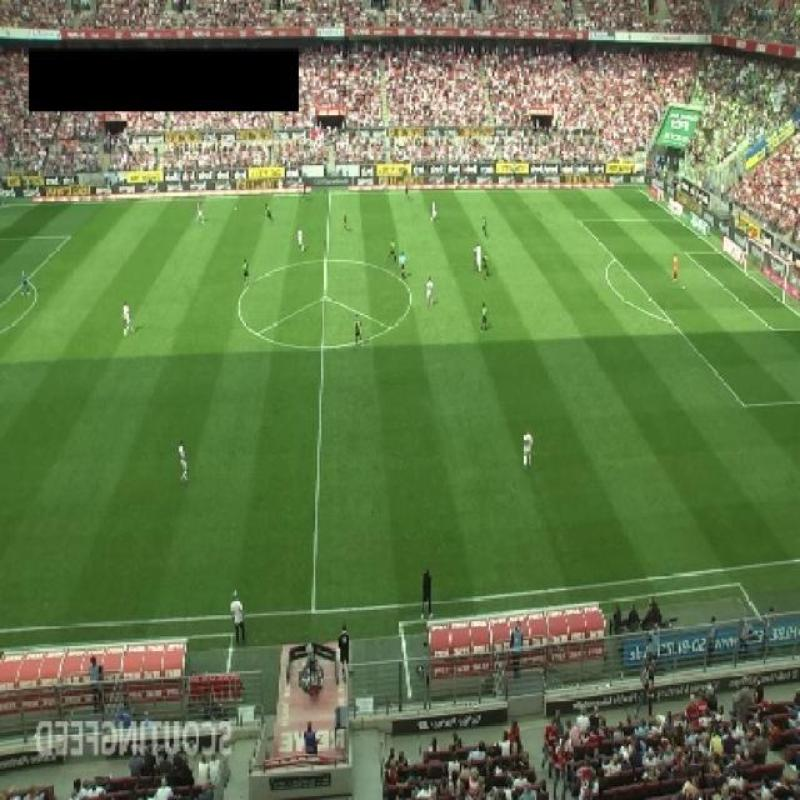1: (627, 176, 648, 194), (0, 200, 8, 210)
10: (606, 248, 624, 268), (19, 268, 37, 286)
11: (662, 310, 680, 331)
12: (734, 392, 755, 418)
13: (320, 180, 340, 202)
14: (316, 246, 336, 272)
15: (311, 330, 335, 360)
16: (298, 590, 331, 625)
2: (669, 213, 683, 227)
3: (712, 245, 726, 259)
7: (677, 242, 697, 262)
8: (763, 315, 783, 339)
9: (61, 226, 79, 246), (571, 212, 589, 230)
c: (224, 290, 255, 324), (394, 288, 424, 312)
